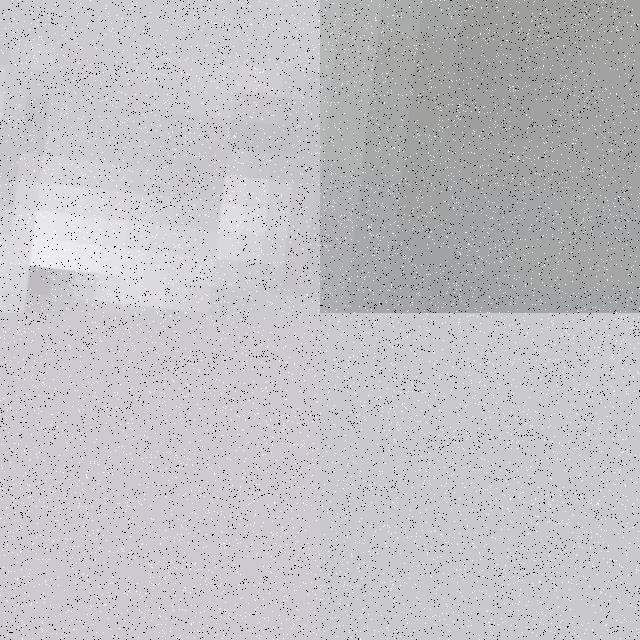drone: (0, 0, 320, 313), (320, 0, 640, 313)
